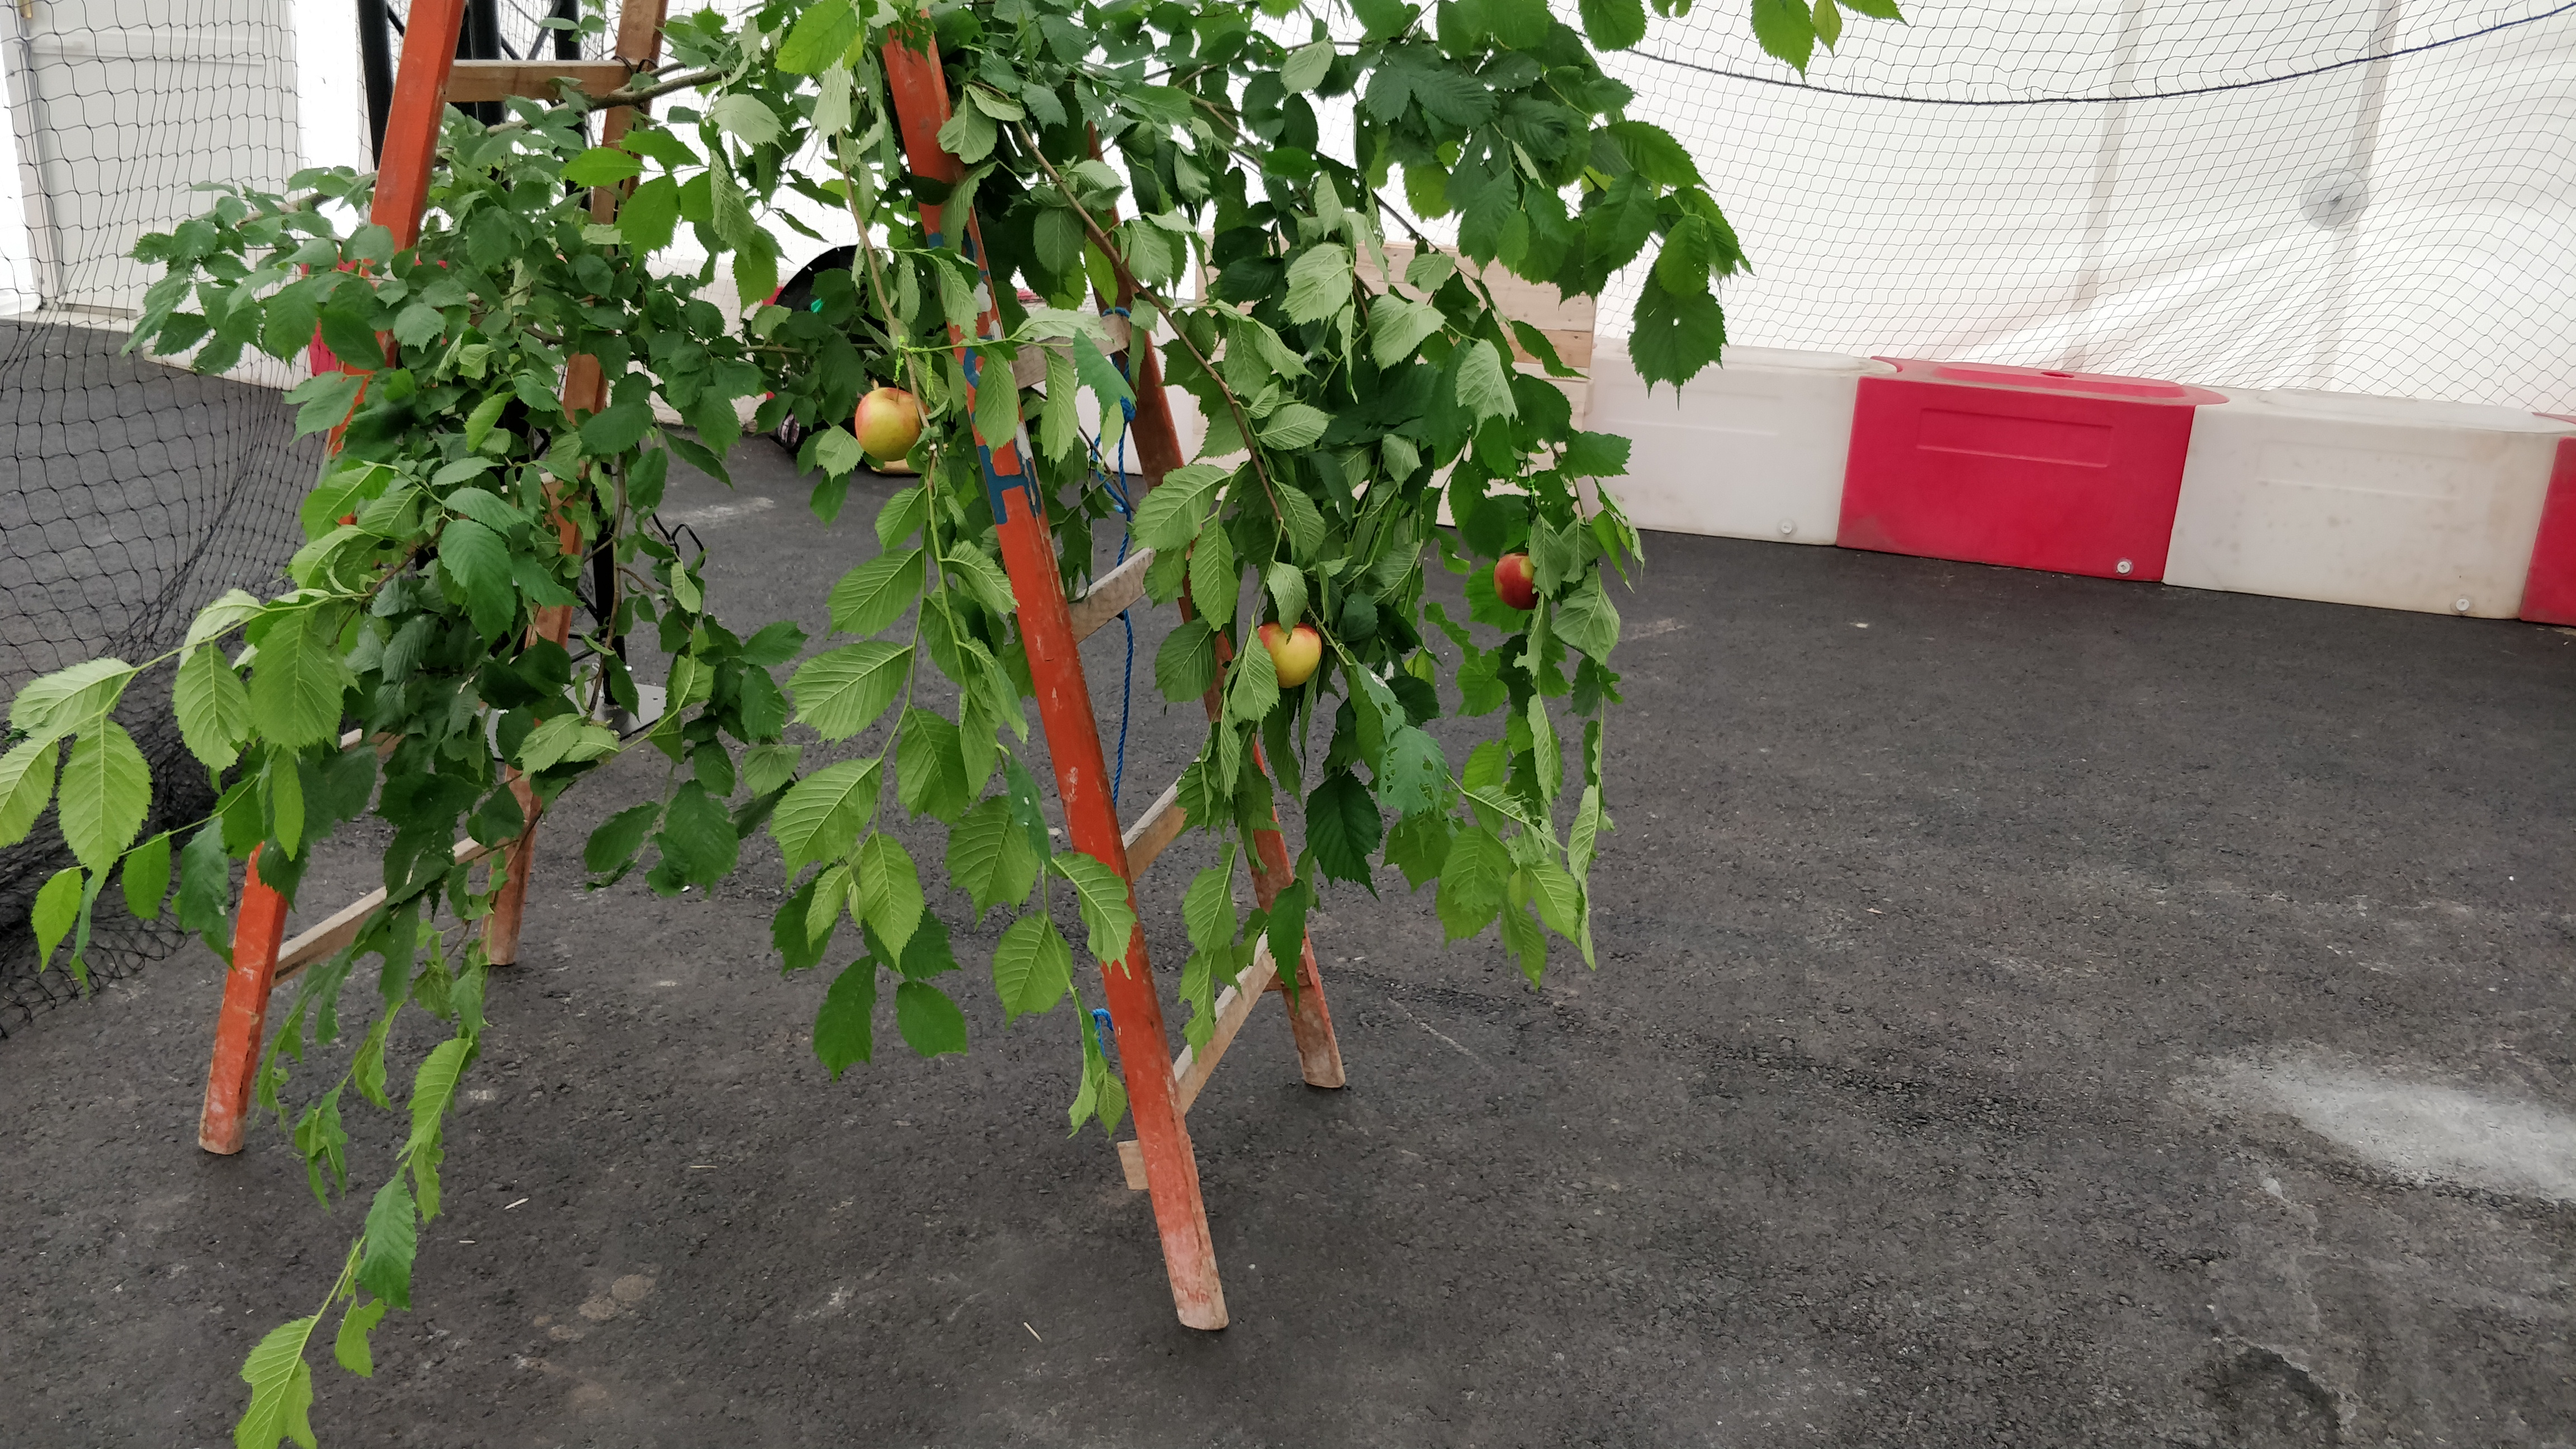apple: (855, 387, 931, 460), (1249, 623, 1322, 690), (1495, 554, 1541, 610)
